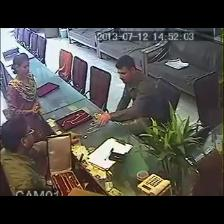person: (98, 56, 163, 135), (1, 115, 48, 191), (7, 54, 42, 139)
